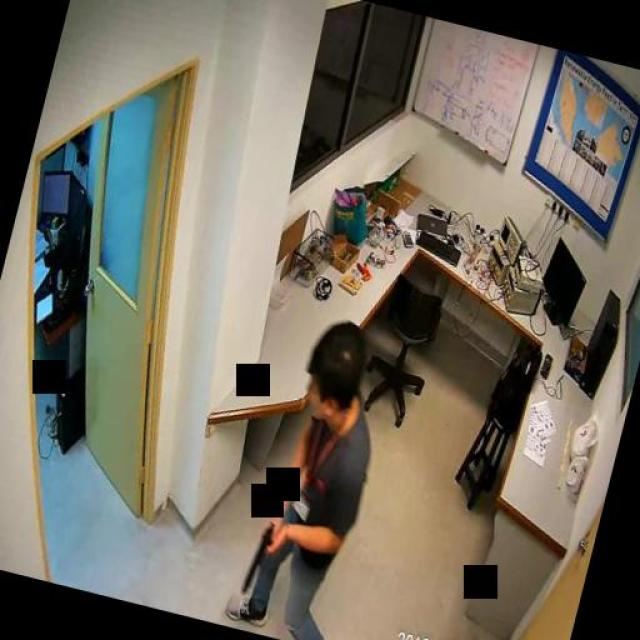gun: (238, 516, 278, 598)
